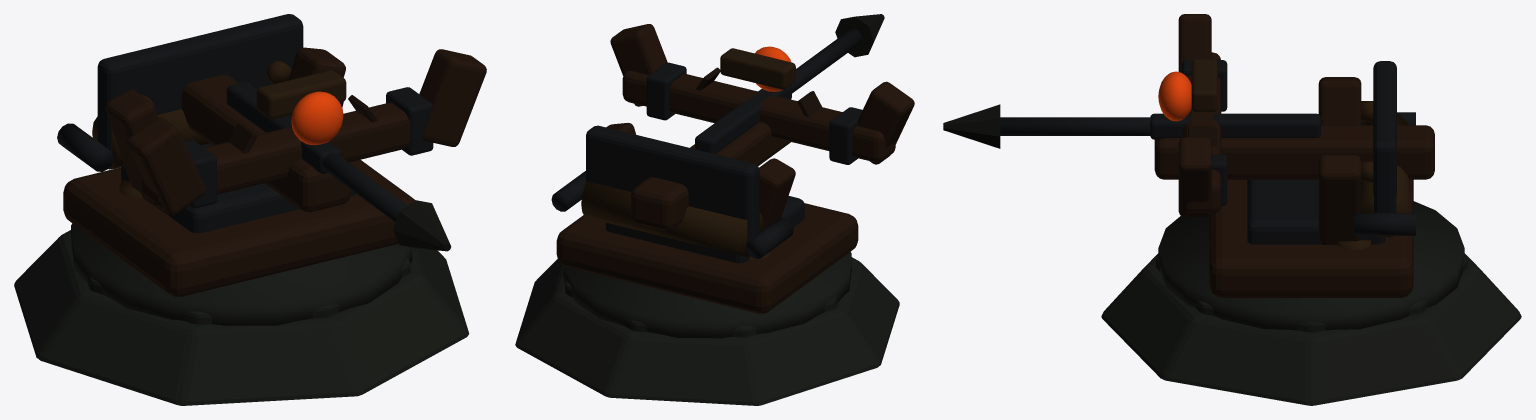
File: TowerSeed3_pose.obj
3 views of the same model, side by side, from view 1: azimuth 30°, elevation 25°; view 2: azimuth 150°, elevation 25°; view 3: azimuth 270°, elevation 25° (orthographic). The views are drawn at different scales.
Parts seen in each view (by area): view 1: limestone_socket_lower_course, oak_bed, cut_stone_course, armoured_mantlet, oak_bow_crossbar, ballista_stock, bow_tip, bow_tip.001, iron_turntable, apex_bow_crown, oak_A_frame, amber_sight (+11 smaller); view 2: limestone_socket_lower_course, oak_bed, cut_stone_course, armoured_mantlet, oak_bow_crossbar, bronze_windlass, ballista_stock, bow_tip, iron_guide, apex_bow_crown, bow_tip.001, iron_turntable (+10 smaller); view 3: limestone_socket_lower_course, cut_stone_course, oak_bed, ballista_stock, iron_turntable, oak_A_frame.001, armoured_mantlet, iron_guide, iron_bolt, bow_tip.001, oak_A_frame, oak_bow_crossbar (+9 smaller).
Boxes of the visible parts, x1,y1,x2,y2 form: limestone_socket_lower_course: (14,230,469,405); oak_bed: (63,159,415,296); cut_stone_course: (71,223,412,325); armoured_mantlet: (97,14,303,167); oak_bow_crossbar: (141,102,410,207); ballista_stock: (181,74,350,212); bow_tip: (126,117,205,215); bow_tip.001: (419,49,486,146); iron_turntable: (121,143,356,233); apex_bow_crown: (256,70,346,119); oak_A_frame: (105,89,158,204); amber_sight: (291,91,343,145); limestone_socket_lower_course: (515,257,899,405); oak_bed: (556,203,858,313); cut_stone_course: (563,252,851,338); armoured_mantlet: (586,125,759,255); oak_bow_crossbar: (622,71,895,162); bronze_windlass: (581,181,764,256); ballista_stock: (631,122,790,230); bow_tip: (857,81,914,164); iron_guide: (695,85,791,153); apex_bow_crown: (720,48,795,89); bow_tip.001: (610,24,667,106); iron_turntable: (605,196,804,263); limestone_socket_lower_course: (1101,253,1521,405); cut_stone_course: (1158,201,1464,330); oak_bed: (1209,179,1413,297); ballista_stock: (1154,125,1434,179); iron_turntable: (1247,179,1385,244); oak_A_frame.001: (1318,155,1361,244); armoured_mantlet: (1373,61,1396,212); iron_guide: (1150,113,1320,139); iron_bolt: (1000,117,1151,135); bow_tip.001: (1178,137,1211,216); oak_A_frame: (1318,77,1361,125); oak_bow_crossbar: (1183,52,1221,213).
Bounding box in the file's own units: 1.77 × 1.13 × 2.43.
